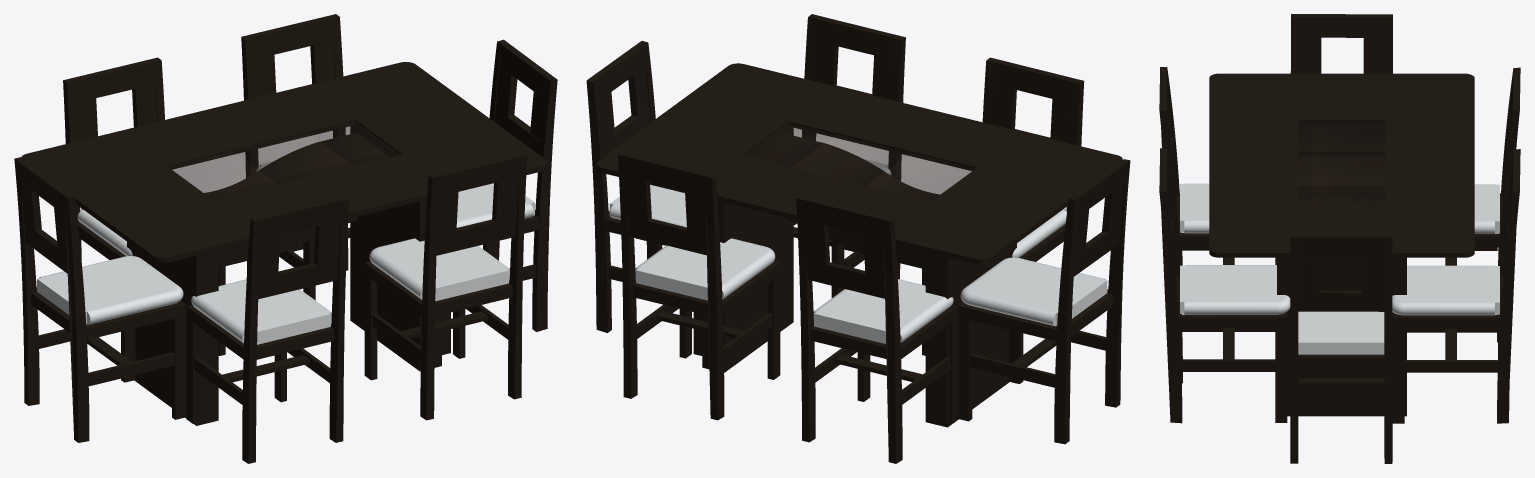
File: MesaComedor2.fbx
3 views of the same model, side by side, from view 1: azimuth 30°, elevation 25°; view 2: azimuth 150°, elevation 25°; view 3: azimuth 270°, elevation 25° (orthographic). The views are drawn at different scales.
Visible parts, largest first — view 1: mesa, silla3, silla5, silla2, silla4, silla1, silla, cojin1, cojin4, cojin2, cojin3, cojin5; view 2: mesa, silla1, silla, silla2, silla4, silla3, silla5, cojin1, cojin, cojin5, cojin3, cojin2; view 3: mesa, silla4, silla3, silla1, cojin4, cojin, silla2, cojin3, silla5, silla, cojin2, cojin5.
Boxes of the visible parts, x1=… form: mesa: x1=21, y1=62, x2=547, y2=425; silla3: x1=364, y1=153, x2=527, y2=420; silla5: x1=186, y1=196, x2=348, y2=463; silla2: x1=14, y1=157, x2=186, y2=442; silla4: x1=442, y1=39, x2=557, y2=354; silla1: x1=241, y1=14, x2=357, y2=300; silla: x1=63, y1=57, x2=225, y2=355; cojin1: x1=37, y1=256, x2=183, y2=324; cojin4: x1=369, y1=238, x2=509, y2=301; cojin2: x1=191, y1=279, x2=331, y2=344; cojin3: x1=456, y1=183, x2=534, y2=227; cojin5: x1=77, y1=208, x2=132, y2=255; mesa: x1=596, y1=63, x2=1122, y2=427; silla1: x1=618, y1=152, x2=780, y2=420; silla: x1=796, y1=195, x2=958, y2=463; silla2: x1=958, y1=159, x2=1130, y2=444; silla4: x1=586, y1=41, x2=702, y2=355; silla3: x1=788, y1=14, x2=905, y2=297; silla5: x1=922, y1=57, x2=1084, y2=355; cojin1: x1=960, y1=257, x2=1107, y2=326; cojin: x1=635, y1=238, x2=775, y2=300; cojin5: x1=813, y1=279, x2=953, y2=343; cojin3: x1=609, y1=184, x2=686, y2=227; cojin2: x1=1012, y1=208, x2=1066, y2=257; mesa: x1=1209, y1=73, x2=1474, y2=416; silla4: x1=1290, y1=234, x2=1392, y2=463; silla3: x1=1159, y1=148, x2=1287, y2=423; silla1: x1=1392, y1=149, x2=1520, y2=423; cojin4: x1=1180, y1=265, x2=1290, y2=314; cojin: x1=1392, y1=265, x2=1499, y2=315; silla2: x1=1290, y1=14, x2=1392, y2=73; cojin3: x1=1298, y1=311, x2=1384, y2=354; silla5: x1=1159, y1=67, x2=1276, y2=314; silla: x1=1445, y1=67, x2=1520, y2=342; cojin2: x1=1180, y1=183, x2=1209, y2=233; cojin5: x1=1474, y1=184, x2=1499, y2=233.
Bounding box in the file's own units: 78.54 × 38.51 × 53.6.
